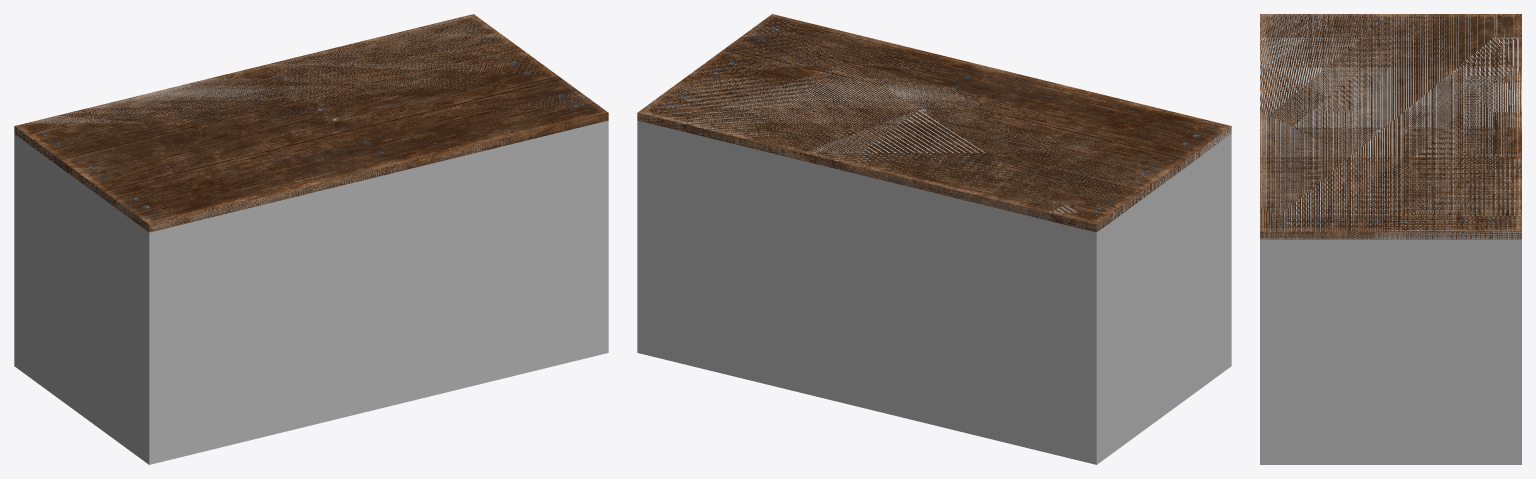
3 renders of one model, left to right at view 1: azimuth 30°, elevation 25°; view 2: azimuth 150°, elevation 25°; view 3: azimuth 270°, elevation 25°, orthographic. The views are drawn at different scales.
Visible parts, largest first — view 1: SM_Box_ConvexHulls, SM_Box; view 2: SM_Box_ConvexHulls, SM_Box; view 3: SM_Box_ConvexHulls, SM_Box.
Part boxes in pixels (x1=…): SM_Box_ConvexHulls: x1=14, y1=14, x2=608, y2=464; SM_Box: x1=14, y1=14, x2=608, y2=232; SM_Box_ConvexHulls: x1=637, y1=15, x2=1231, y2=464; SM_Box: x1=637, y1=14, x2=1231, y2=232; SM_Box_ConvexHulls: x1=1260, y1=14, x2=1521, y2=464; SM_Box: x1=1260, y1=14, x2=1521, y2=239.
Bounding box in the file's own units: 122 × 62 × 61.
Materials: 2 (1 with a texture image).
